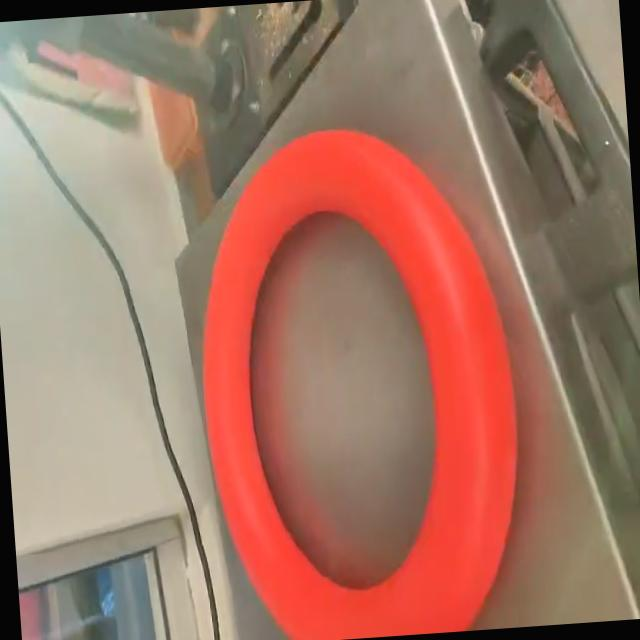note: (182, 115, 534, 640)
